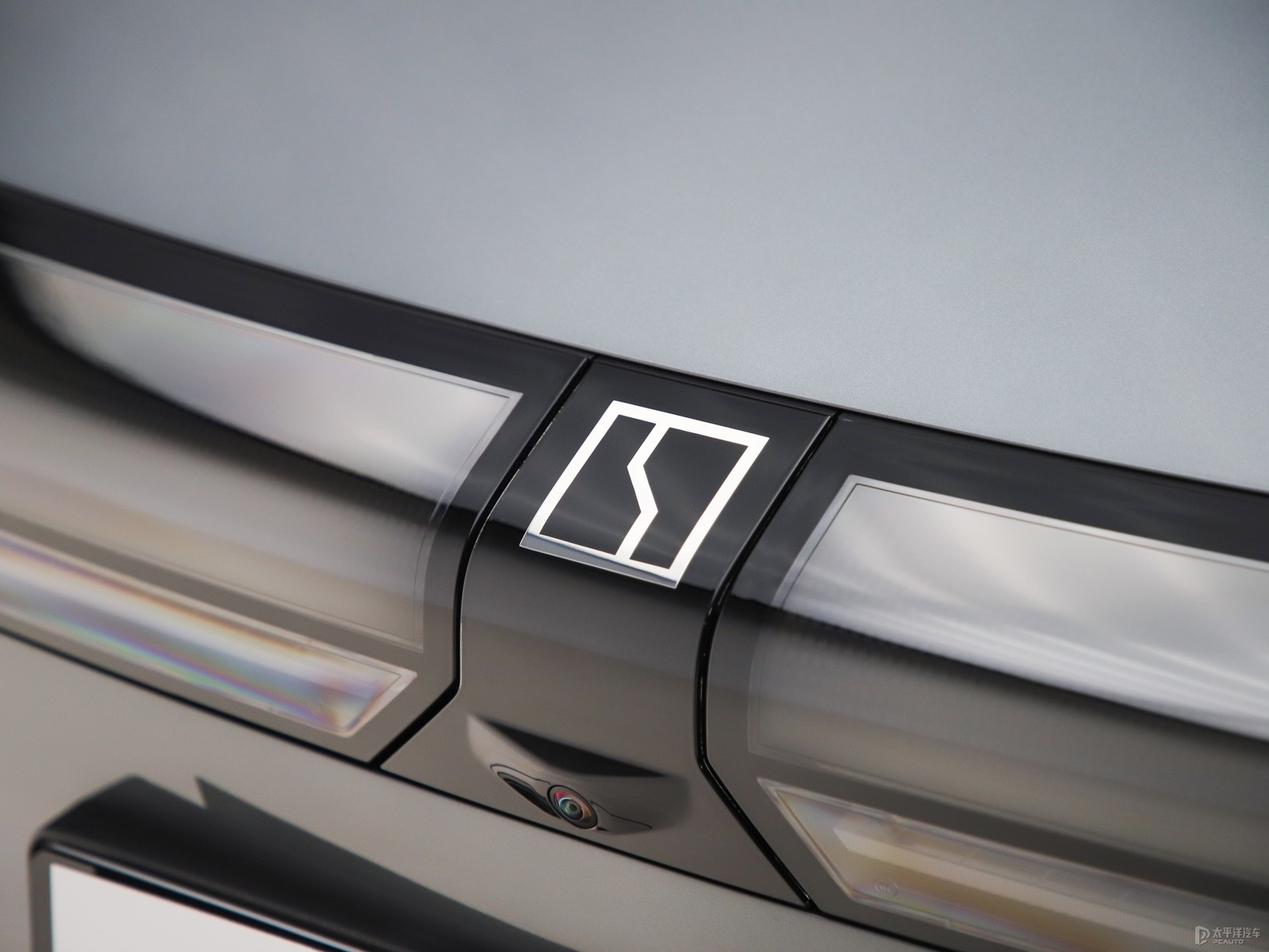ZEEKR: (519, 401, 769, 588)
